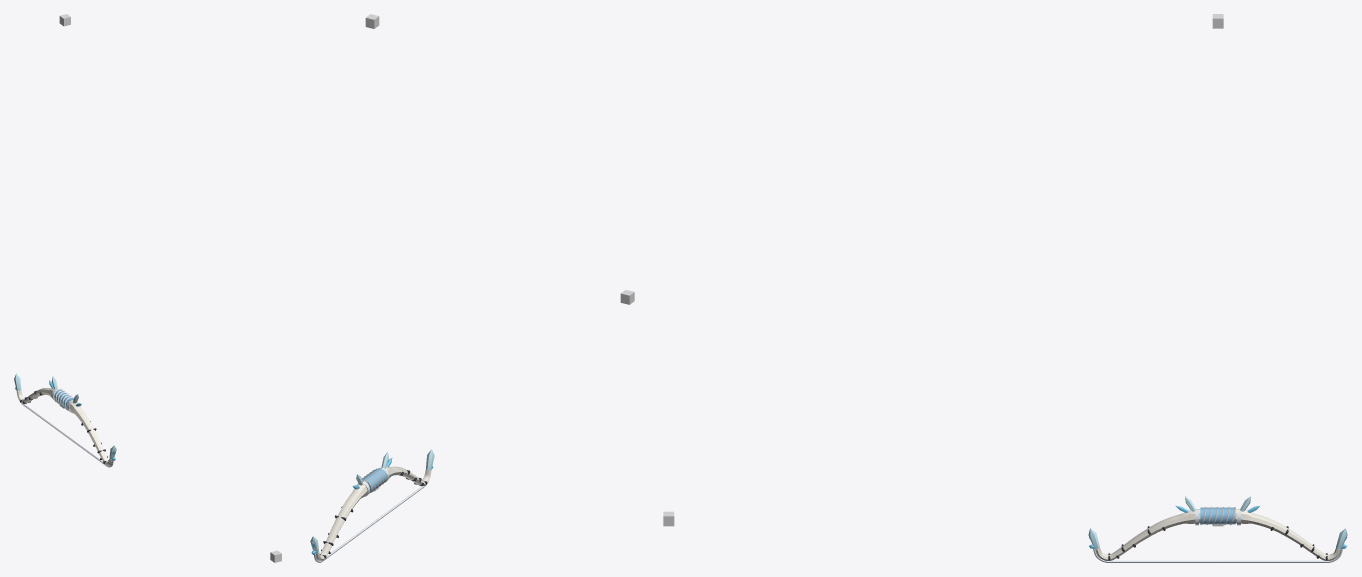
Rendered from YukiBow.fbx.
The picture shows the model from 3 angles, left to right: view 1: azimuth 30°, elevation 25°; view 2: azimuth 150°, elevation 25°; view 3: azimuth 270°, elevation 25°; orthographic projection. The views are drawn at different scales.
Visible parts, largest first — view 1: Body; view 2: Body, Glow; view 3: Body.
Boxes of the visible parts, left/top/right/bottom form: Body: left=16, top=388, right=113, bottom=467; Body: left=314, top=466, right=431, bottom=562; Glow: left=310, top=449, right=434, bottom=554; Body: left=1093, top=507, right=1342, bottom=562.
Size of the model in its own units: 0.354 by 10.98 by 12.46.
Materials: 1 (1 with a texture image).
